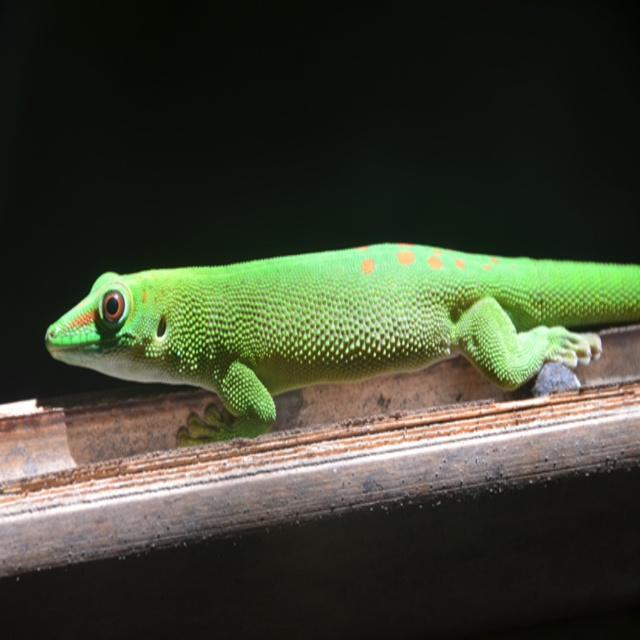Lizard: (55, 234, 625, 456)
